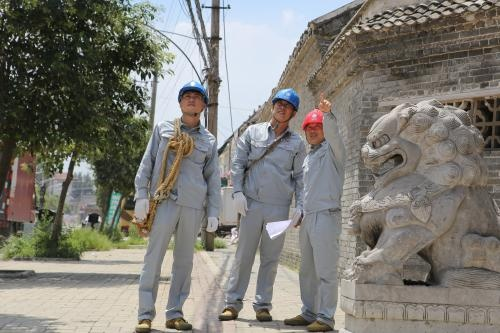blue: (174, 79, 210, 122), (269, 88, 300, 125)
red: (300, 108, 329, 148)
